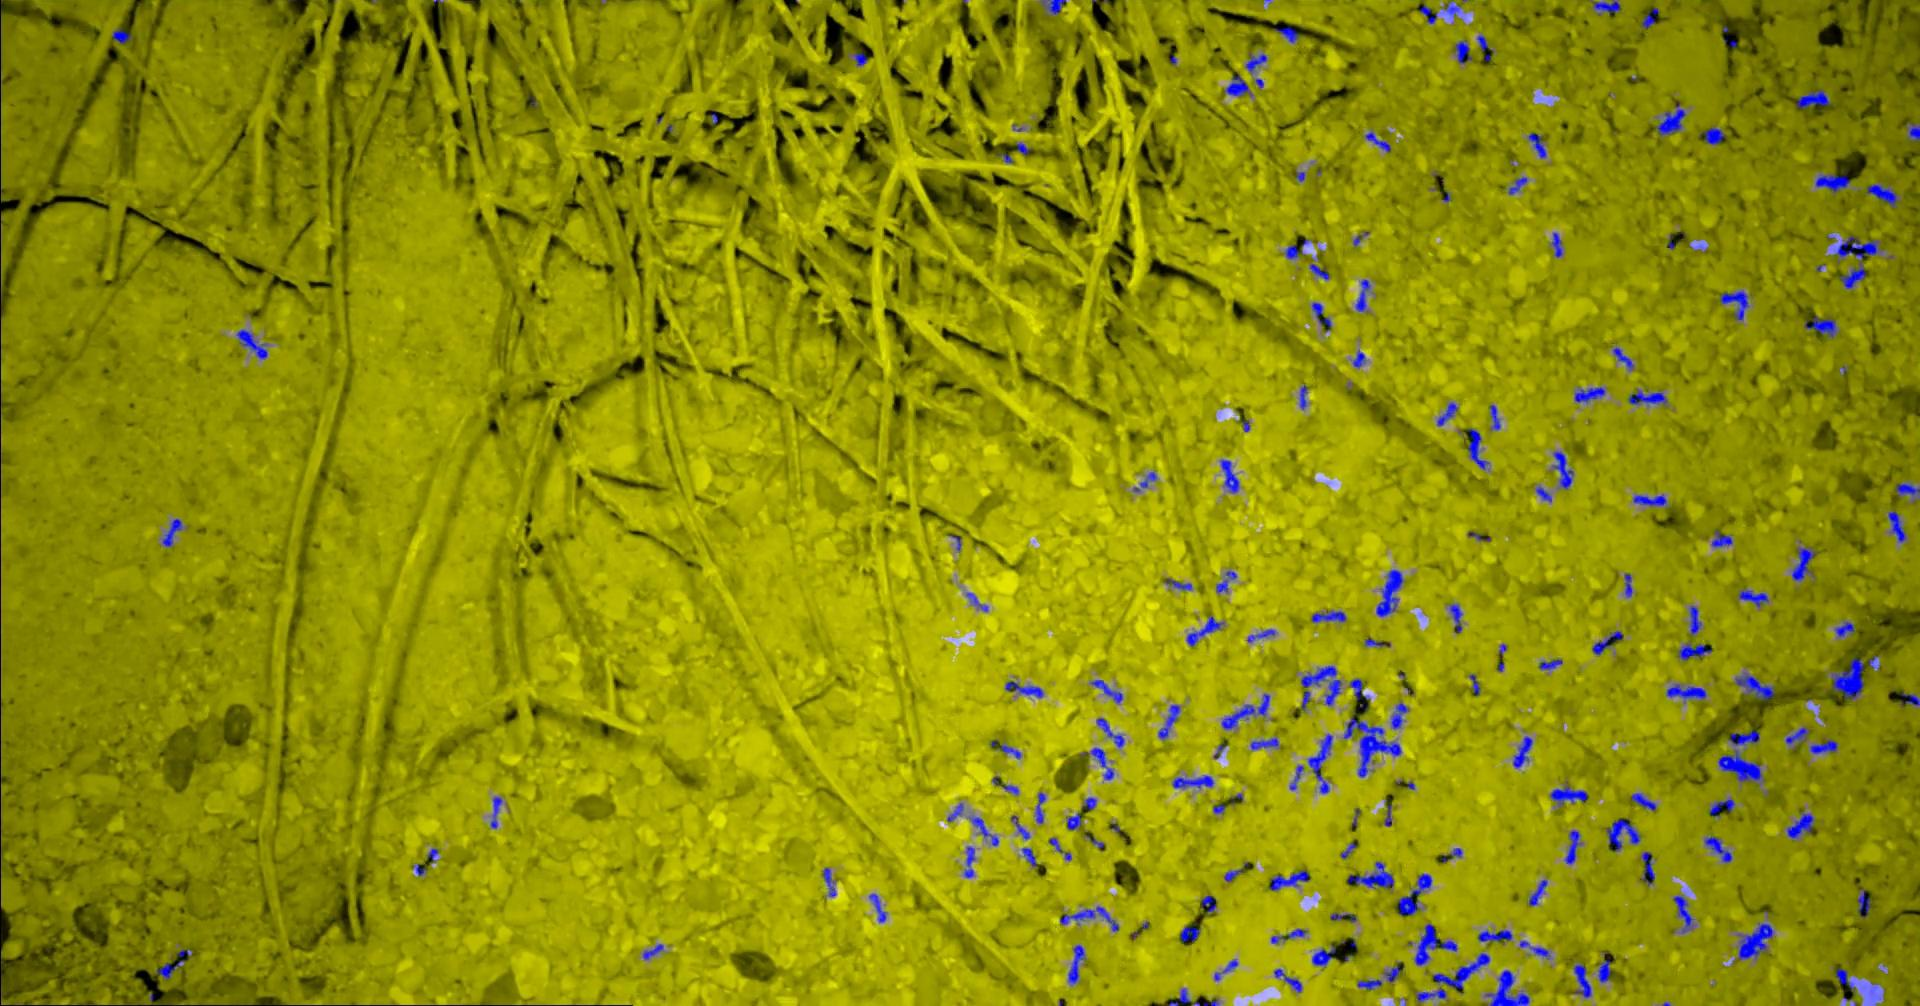ant: (1343, 711, 1401, 777), (1834, 235, 1881, 288), (1432, 951, 1490, 993), (1717, 730, 1761, 781), (1300, 666, 1341, 710), (1415, 923, 1457, 965), (1222, 694, 1269, 729), (1484, 970, 1529, 1005), (1307, 733, 1332, 793), (1059, 906, 1117, 931), (1398, 873, 1431, 915), (1735, 923, 1773, 959), (1831, 658, 1864, 699), (1375, 569, 1403, 616), (1347, 861, 1393, 888), (155, 948, 192, 981), (1186, 615, 1223, 647), (1606, 818, 1641, 851), (1735, 672, 1774, 699), (1079, 747, 1112, 779), (1655, 103, 1685, 135), (1719, 290, 1749, 320), (236, 329, 267, 358), (1467, 428, 1488, 469), (1096, 716, 1124, 747), (1269, 869, 1308, 890), (1168, 988, 1218, 1005), (1790, 547, 1815, 580), (1552, 451, 1573, 488), (1785, 810, 1813, 838), (970, 817, 998, 845), (1549, 785, 1587, 805), (1090, 680, 1123, 702), (1672, 895, 1693, 932), (1815, 170, 1849, 192), (1157, 704, 1178, 738), (1591, 630, 1622, 654), (1865, 184, 1897, 207), (1704, 836, 1731, 862), (1272, 968, 1302, 992), (1067, 944, 1084, 983), (1349, 678, 1369, 713), (1804, 315, 1836, 337), (1004, 680, 1043, 697), (1796, 89, 1830, 108), (1627, 389, 1666, 405), (1665, 683, 1705, 699), (1887, 511, 1906, 542), (1512, 735, 1531, 767), (1223, 75, 1251, 97), (1220, 459, 1238, 492), (1677, 643, 1710, 661), (1573, 964, 1591, 997), (161, 518, 182, 546), (1519, 940, 1550, 958), (1310, 302, 1330, 332), (1364, 131, 1390, 151), (989, 741, 1020, 758), (1611, 345, 1633, 370), (1738, 588, 1768, 606), (869, 893, 886, 922), (1172, 775, 1213, 788), (992, 775, 1018, 794), (1564, 829, 1580, 862), (1270, 929, 1305, 942), (1477, 929, 1512, 942), (1436, 401, 1457, 426), (1310, 945, 1335, 965), (1573, 386, 1605, 401), (1528, 879, 1547, 904), (1415, 987, 1446, 1002), (1641, 851, 1655, 885), (1708, 798, 1735, 815), (1590, 0, 1620, 15), (1133, 471, 1156, 492), (1835, 968, 1855, 991), (1010, 815, 1029, 840), (1528, 132, 1545, 158), (1390, 702, 1408, 728), (1355, 279, 1369, 311), (1857, 887, 1870, 918), (1215, 570, 1236, 592), (1632, 493, 1666, 506), (1310, 610, 1345, 622), (1895, 483, 1919, 500), (1630, 793, 1655, 810), (1699, 127, 1724, 144), (1244, 53, 1266, 72), (1274, 25, 1298, 42), (1477, 36, 1493, 60), (1454, 39, 1470, 64), (1785, 727, 1810, 743), (1810, 739, 1837, 753), (822, 868, 836, 895), (966, 592, 987, 611), (1689, 605, 1702, 635), (1710, 530, 1732, 547), (1178, 925, 1200, 942), (490, 796, 502, 828), (1641, 8, 1658, 28), (1040, 0, 1065, 14), (1449, 605, 1462, 633), (1246, 629, 1274, 641), (963, 846, 974, 876), (1418, 4, 1436, 23), (1509, 177, 1528, 194), (1289, 765, 1303, 789), (1309, 263, 1330, 279), (1834, 620, 1854, 636), (643, 942, 663, 959), (1383, 962, 1399, 982), (1250, 738, 1277, 749), (946, 801, 963, 821), (1035, 793, 1045, 823), (1488, 404, 1500, 431), (1164, 578, 1191, 589), (1200, 895, 1217, 913), (1021, 847, 1036, 866), (1597, 959, 1610, 982), (1441, 847, 1462, 861), (1550, 232, 1562, 257), (1538, 658, 1562, 669), (1468, 673, 1481, 695), (1444, 0, 1460, 17), (1284, 244, 1302, 259), (110, 29, 130, 43), (1223, 868, 1242, 882), (1898, 692, 1919, 705), (1065, 812, 1079, 829), (1357, 979, 1382, 989), (1330, 912, 1356, 921), (1364, 638, 1389, 647), (1907, 122, 1919, 141), (1535, 486, 1550, 500), (1081, 796, 1096, 810), (1352, 349, 1364, 367), (1299, 384, 1307, 409), (853, 52, 867, 65), (1016, 141, 1029, 155), (1624, 573, 1632, 596), (1384, 804, 1390, 826)
